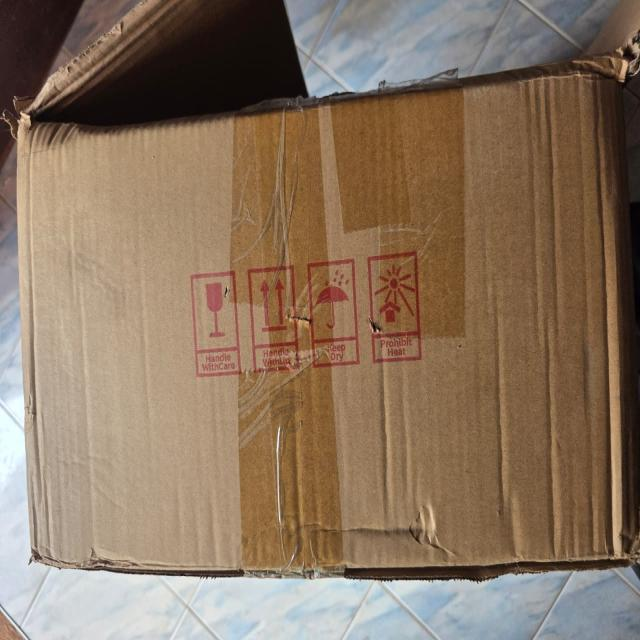carton_box: (6, 59, 640, 614)
fragile_label: (184, 255, 247, 397)
keep_dry_label: (304, 251, 366, 384)
package_damage: (10, 6, 638, 146), (64, 512, 630, 598), (276, 291, 403, 348)
protect_from_heat_label: (365, 250, 429, 374)
this_side_up_label: (247, 254, 304, 389)
